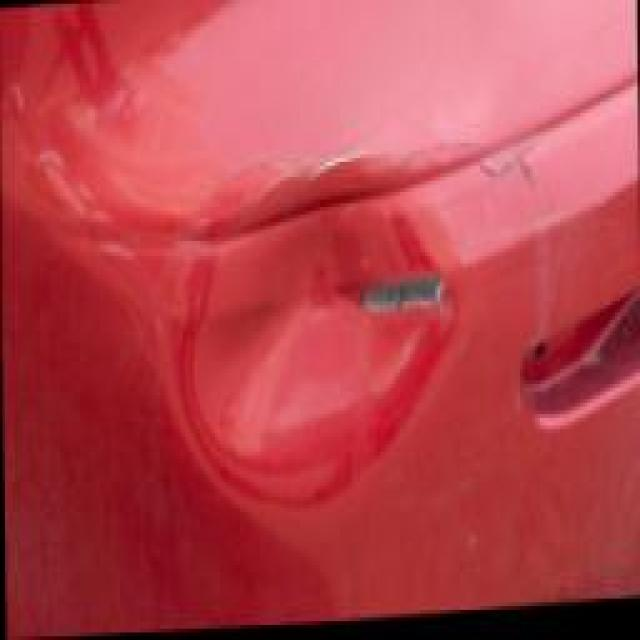Bumper: (18, 79, 624, 610)
